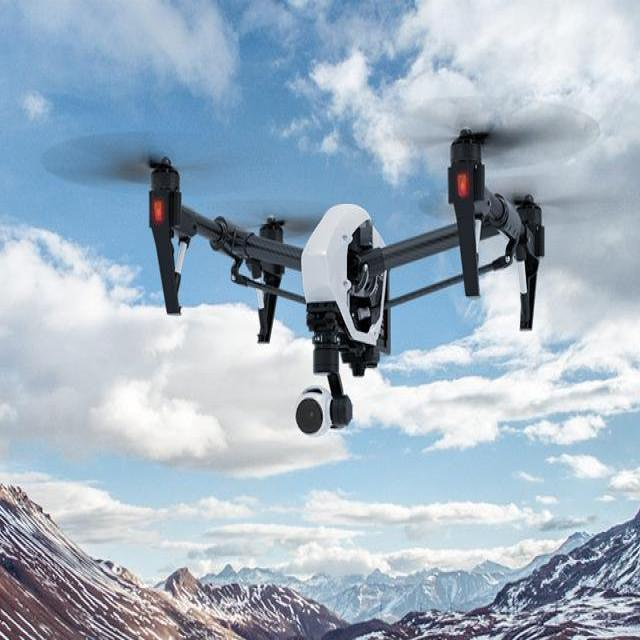UAV: (146, 119, 550, 437)
